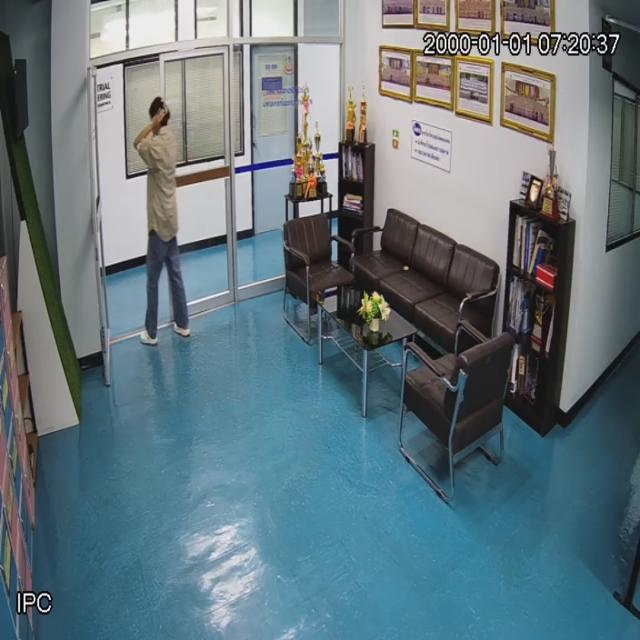normal: (132, 98, 192, 354)
